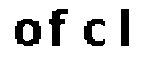c: (81, 17, 109, 49)
f: (47, 6, 72, 51)
l: (117, 7, 139, 49)
o: (12, 18, 43, 47)
